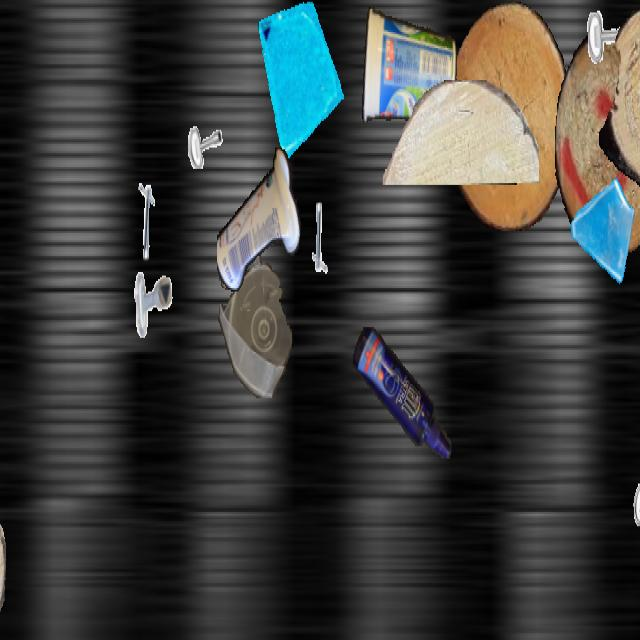glass: (257, 2, 349, 165), (569, 172, 637, 294)
metal: (581, 2, 640, 108), (125, 180, 179, 276), (176, 76, 228, 169), (289, 188, 339, 278), (132, 263, 174, 338), (627, 439, 640, 532)
plastic: (353, 327, 451, 459), (217, 144, 301, 297), (360, 2, 456, 126), (218, 240, 292, 396)
wood: (447, 2, 571, 229), (555, 36, 640, 252), (382, 80, 538, 183), (599, 2, 640, 194), (0, 489, 5, 638)
